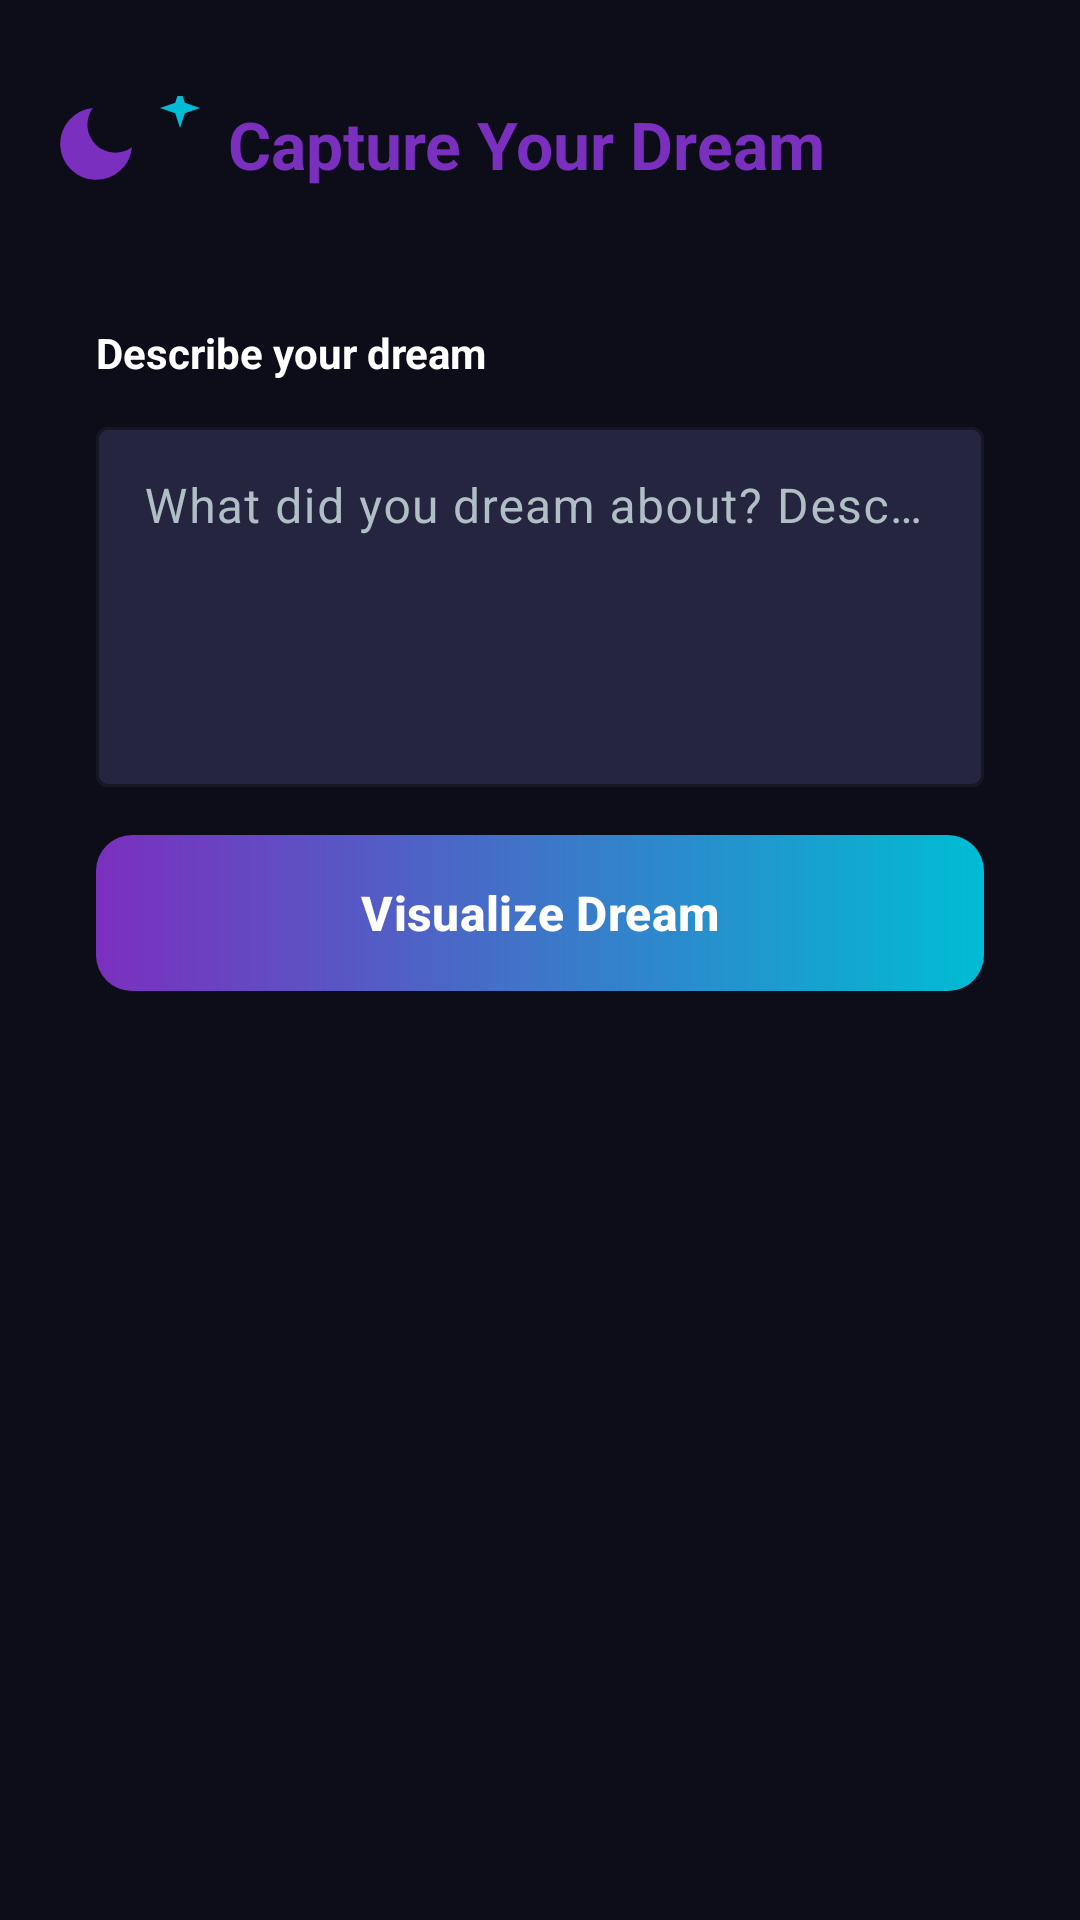

Screen size 1080px×1920px. Icon name, then its box in pixels as (x1, y1, x2, y2):
moon: (60, 108, 132, 180)
